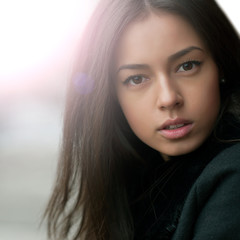teen: (108, 15, 211, 163)
